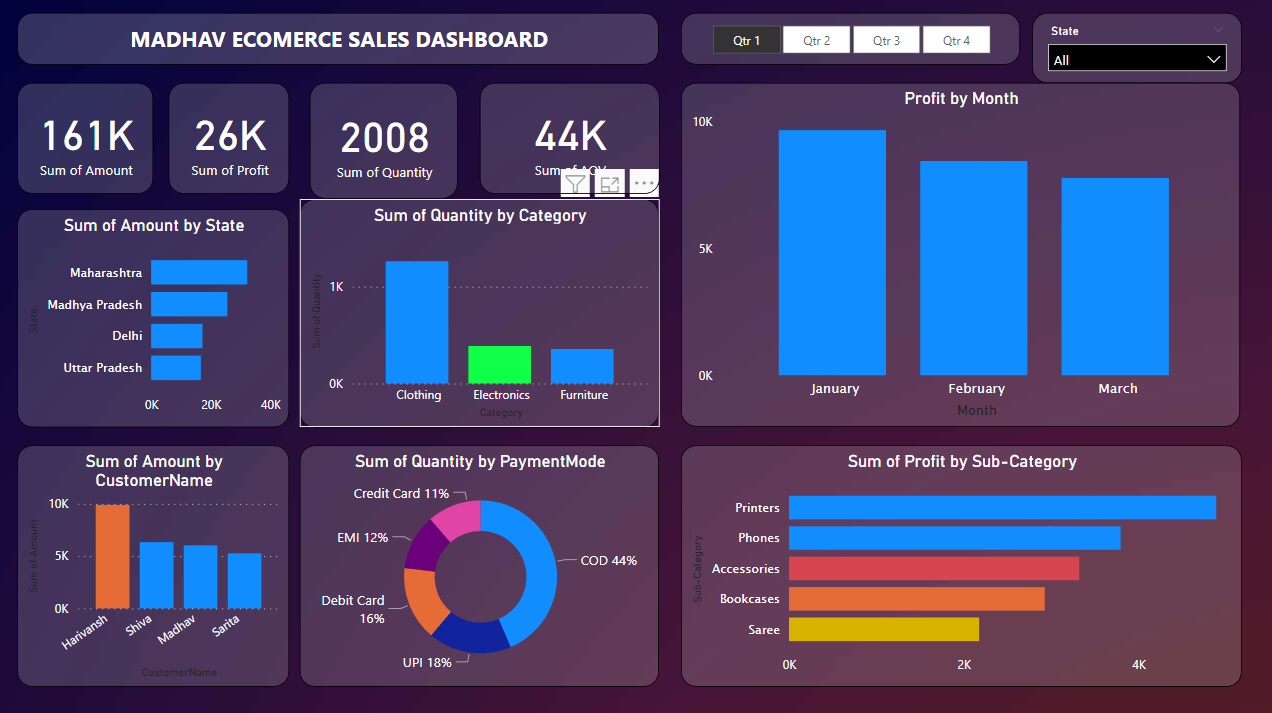

The page's visual inventory and layout, read from the dashboard file:
{"tool":"powerbi","page":{"name":"Page 1","canvas":[1280,720],"ordinal":0},"visuals":[{"type":"textbox","box":[21.8,13.4,641.7,52.1],"z":0},{"type":"columnChart","title":" Profit by Month","fields":{"Category":["Orders.Order Date.Variation.Date Hierarchy.Month"],"Y":["Details.Profit"]},"box":[685.4,84,559.4,344.4],"z":1000},{"type":"barChart","fields":{"Category":["Details.Sub-Category"],"Y":["Details.Profit"]},"box":[685.4,446.8,561,241.9],"z":2000},{"type":"columnChart","fields":{"Category":["Details.Category"],"Y":["Details.Quantity"]},"box":[304,199.9,359.5,228.5],"z":3000},{"type":"donutChart","fields":{"Category":["Details.PaymentMode"],"Y":["Details.Quantity"]},"box":[304,446.8,359.5,241.9],"z":4000},{"type":"card","fields":{"Values":["Details.Amount"]},"box":[21.8,84,136.1,110.9],"z":5000},{"type":"card","fields":{"Values":["Details.Quantity"]},"box":[314.1,84,147.8,115.9],"z":6000},{"type":"card","fields":{"Values":["Details.Profit"]},"box":[173,84,120.9,110.9],"z":7000},{"type":"card","fields":{"Values":["Details.AOV"]},"box":[483.8,84,179.7,110.9],"z":8000},{"type":"barChart","fields":{"Category":["Orders.State"],"Y":["Details.Amount"]},"box":[21.8,210,272.1,218.4],"z":9000},{"type":"columnChart","fields":{"Category":["Orders.CustomerName"],"Y":["Details.Amount"]},"box":[21.8,446.8,272.1,241.9],"z":10000},{"type":"slicer","fields":{"Values":["Orders.Order Date.Variation.Date Hierarchy.Quarter"]},"box":[685.4,13.4,339.3,52.1],"z":11000},{"type":"slicer","fields":{"Values":["Orders.State"]},"box":[1036.4,13.4,210,70.6],"z":12000}]}

Visuals, with their boxes in screenshot pixels (x1, y1, x2, y2), scaled from the page's 1280x720 canvas onto the 1272x713 screenshot:
textbox: 22 13 659 65
" Profit by Month" columnChart: 681 83 1237 424
barChart - Details.Sub-Category x Details.Profit: 681 442 1239 682
columnChart - Details.Category x Details.Quantity: 302 198 659 424
donutChart - Details.PaymentMode x Details.Quantity: 302 442 659 682
card - Details.Amount: 22 83 157 193
card - Details.Quantity: 312 83 459 198
card - Details.Profit: 172 83 292 193
card - Details.AOV: 481 83 659 193
barChart - Orders.State x Details.Amount: 22 208 292 424
columnChart - Orders.CustomerName x Details.Amount: 22 442 292 682
slicer - Orders.Order Date.Variation.Date Hierarchy.Quarter: 681 13 1018 65
slicer - Orders.State: 1030 13 1239 83
